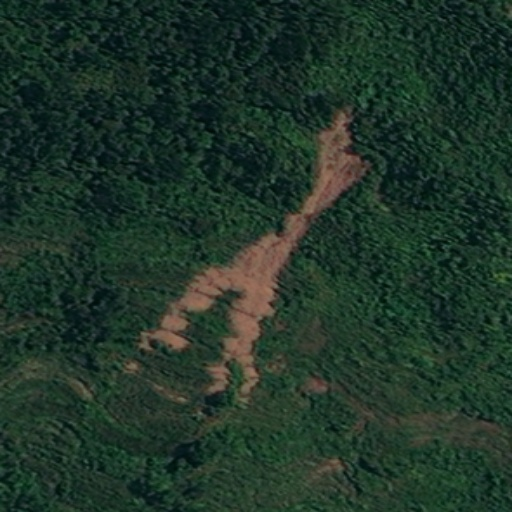landslide: (141, 106, 364, 395)
